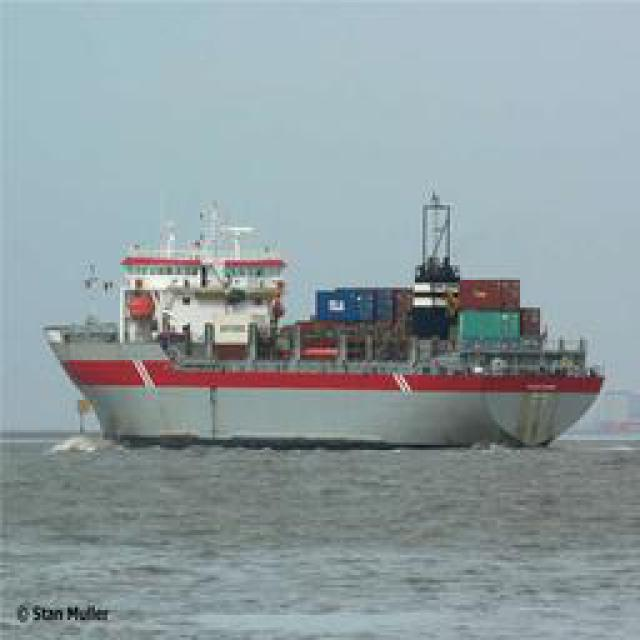Ship: (50, 185, 598, 450)
